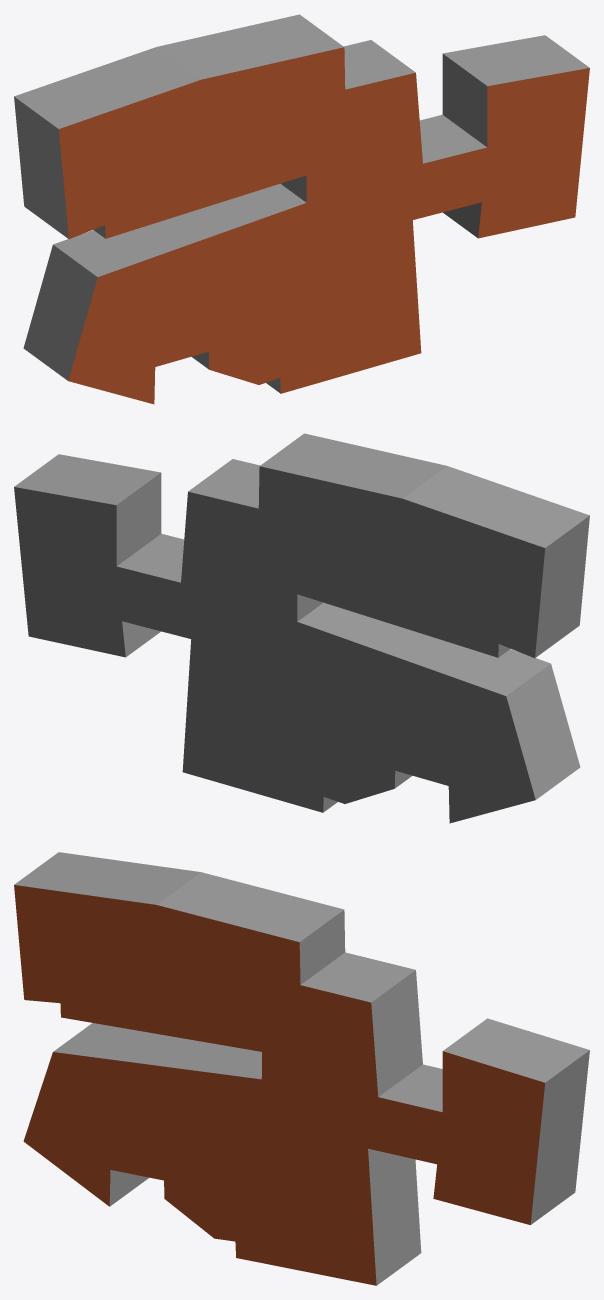
Rendered from construction_5426_assumed_A_Casa_h6m.obj.
The picture shows the model from 3 angles, top to bottom: view 1: azimuth 30°, elevation 25°; view 2: azimuth 150°, elevation 25°; view 3: azimuth 330°, elevation 25°; orthographic projection.
Parts seen in each view (by area): view 1: construction_5426_assumed_A_Casa; view 2: construction_5426_assumed_A_Casa; view 3: construction_5426_assumed_A_Casa.
Boxes of the visible parts, left/top/right/bottom form: construction_5426_assumed_A_Casa: left=14, top=14, right=589, bottom=404; construction_5426_assumed_A_Casa: left=14, top=433, right=589, bottom=823; construction_5426_assumed_A_Casa: left=14, top=852, right=589, bottom=1285.
Size of the model in its own units: 41.12 by 24.68 by 6.
